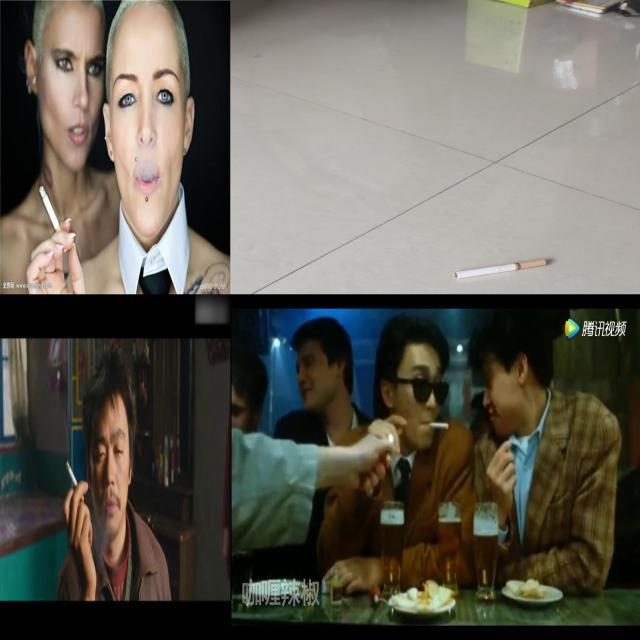smoking: (38, 183, 68, 254), (454, 260, 548, 280), (66, 460, 84, 502), (428, 422, 449, 431)
